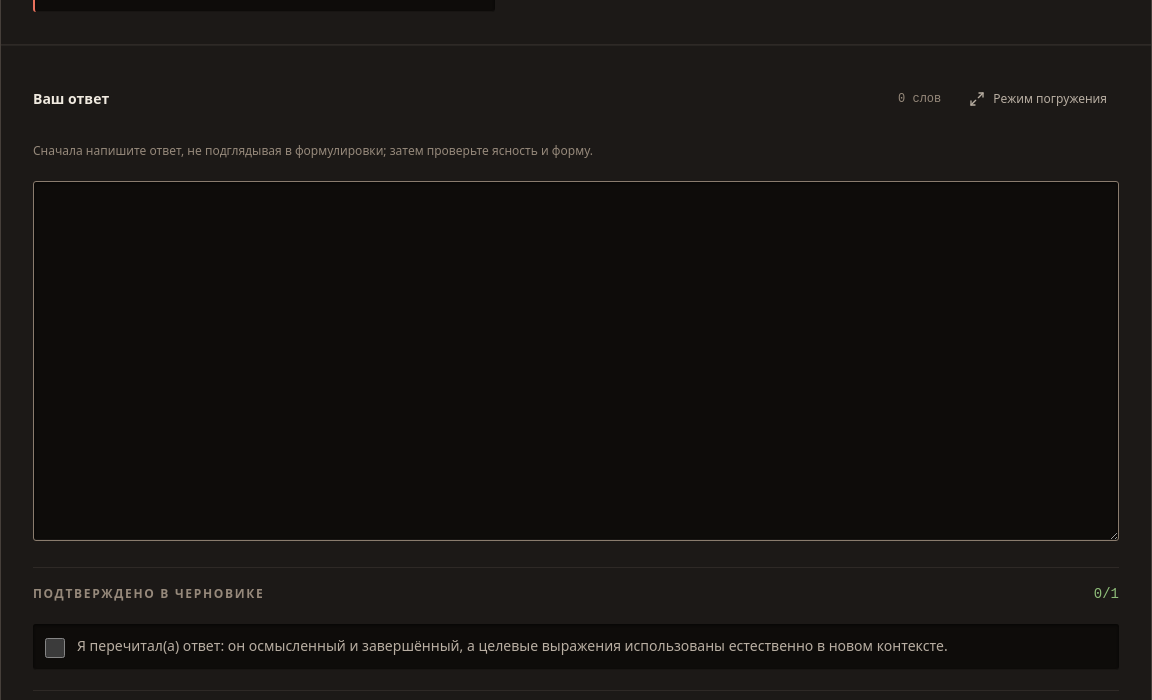
Test: MissionPage adaptive contract › shows and validates the range persisted with an A2-sized mission
(page scrolled)
Type "A response that is too short." into the text box labelled "Ваш ответ" at x=576, y=361, box [33,181,1119,541]
(page scrolled)
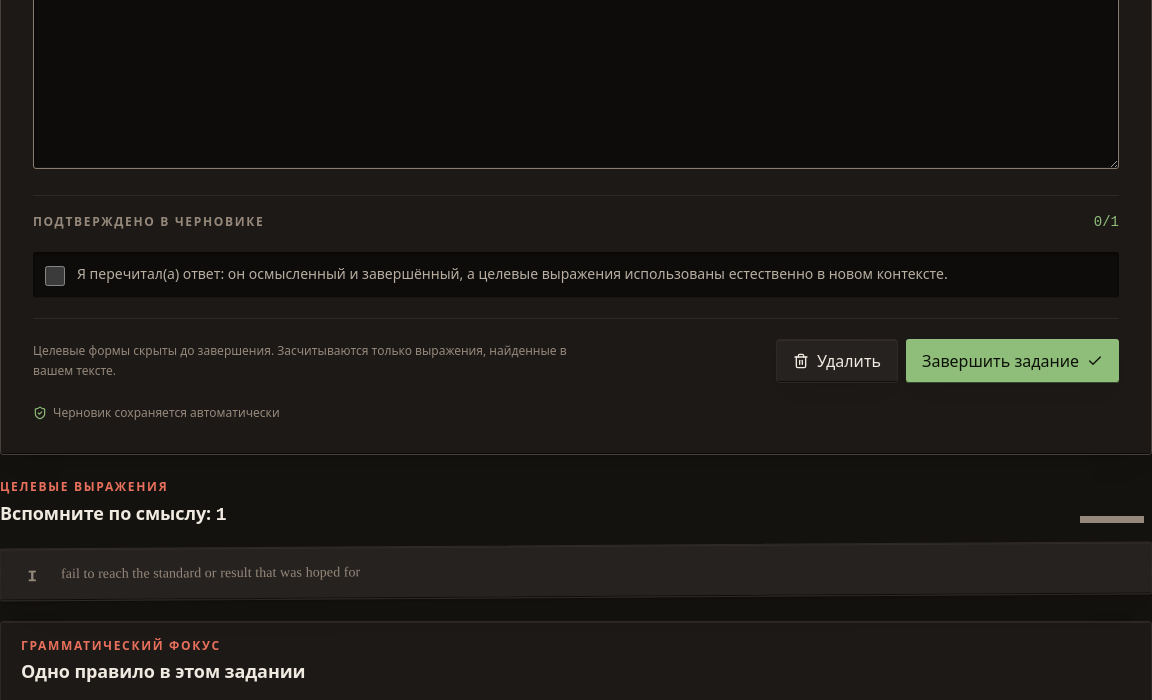
Click the button "Завершить задание" at x=1012, y=361, box [906,339,1119,383]
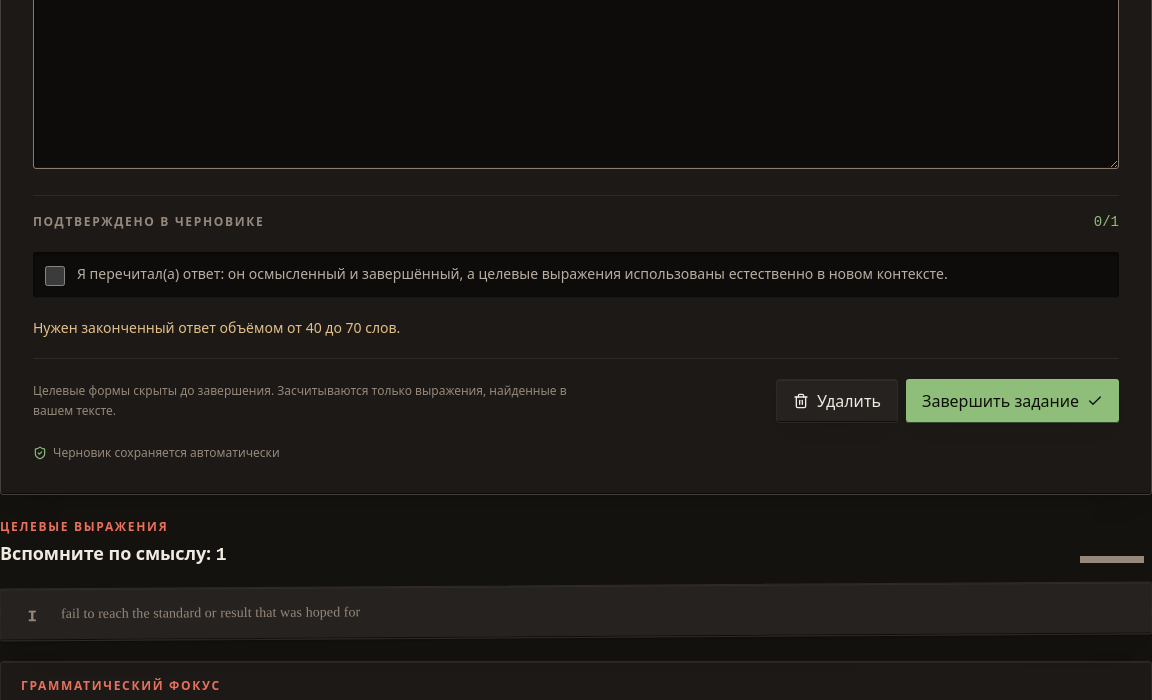
Expected: the message shows "от 40 до 70 слов", [33,318,400,337]
